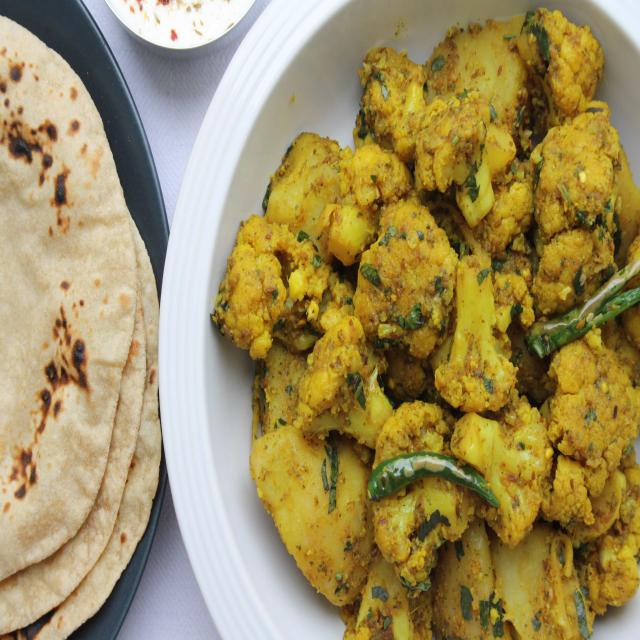Aloo Gobi: (351, 15, 631, 408)
